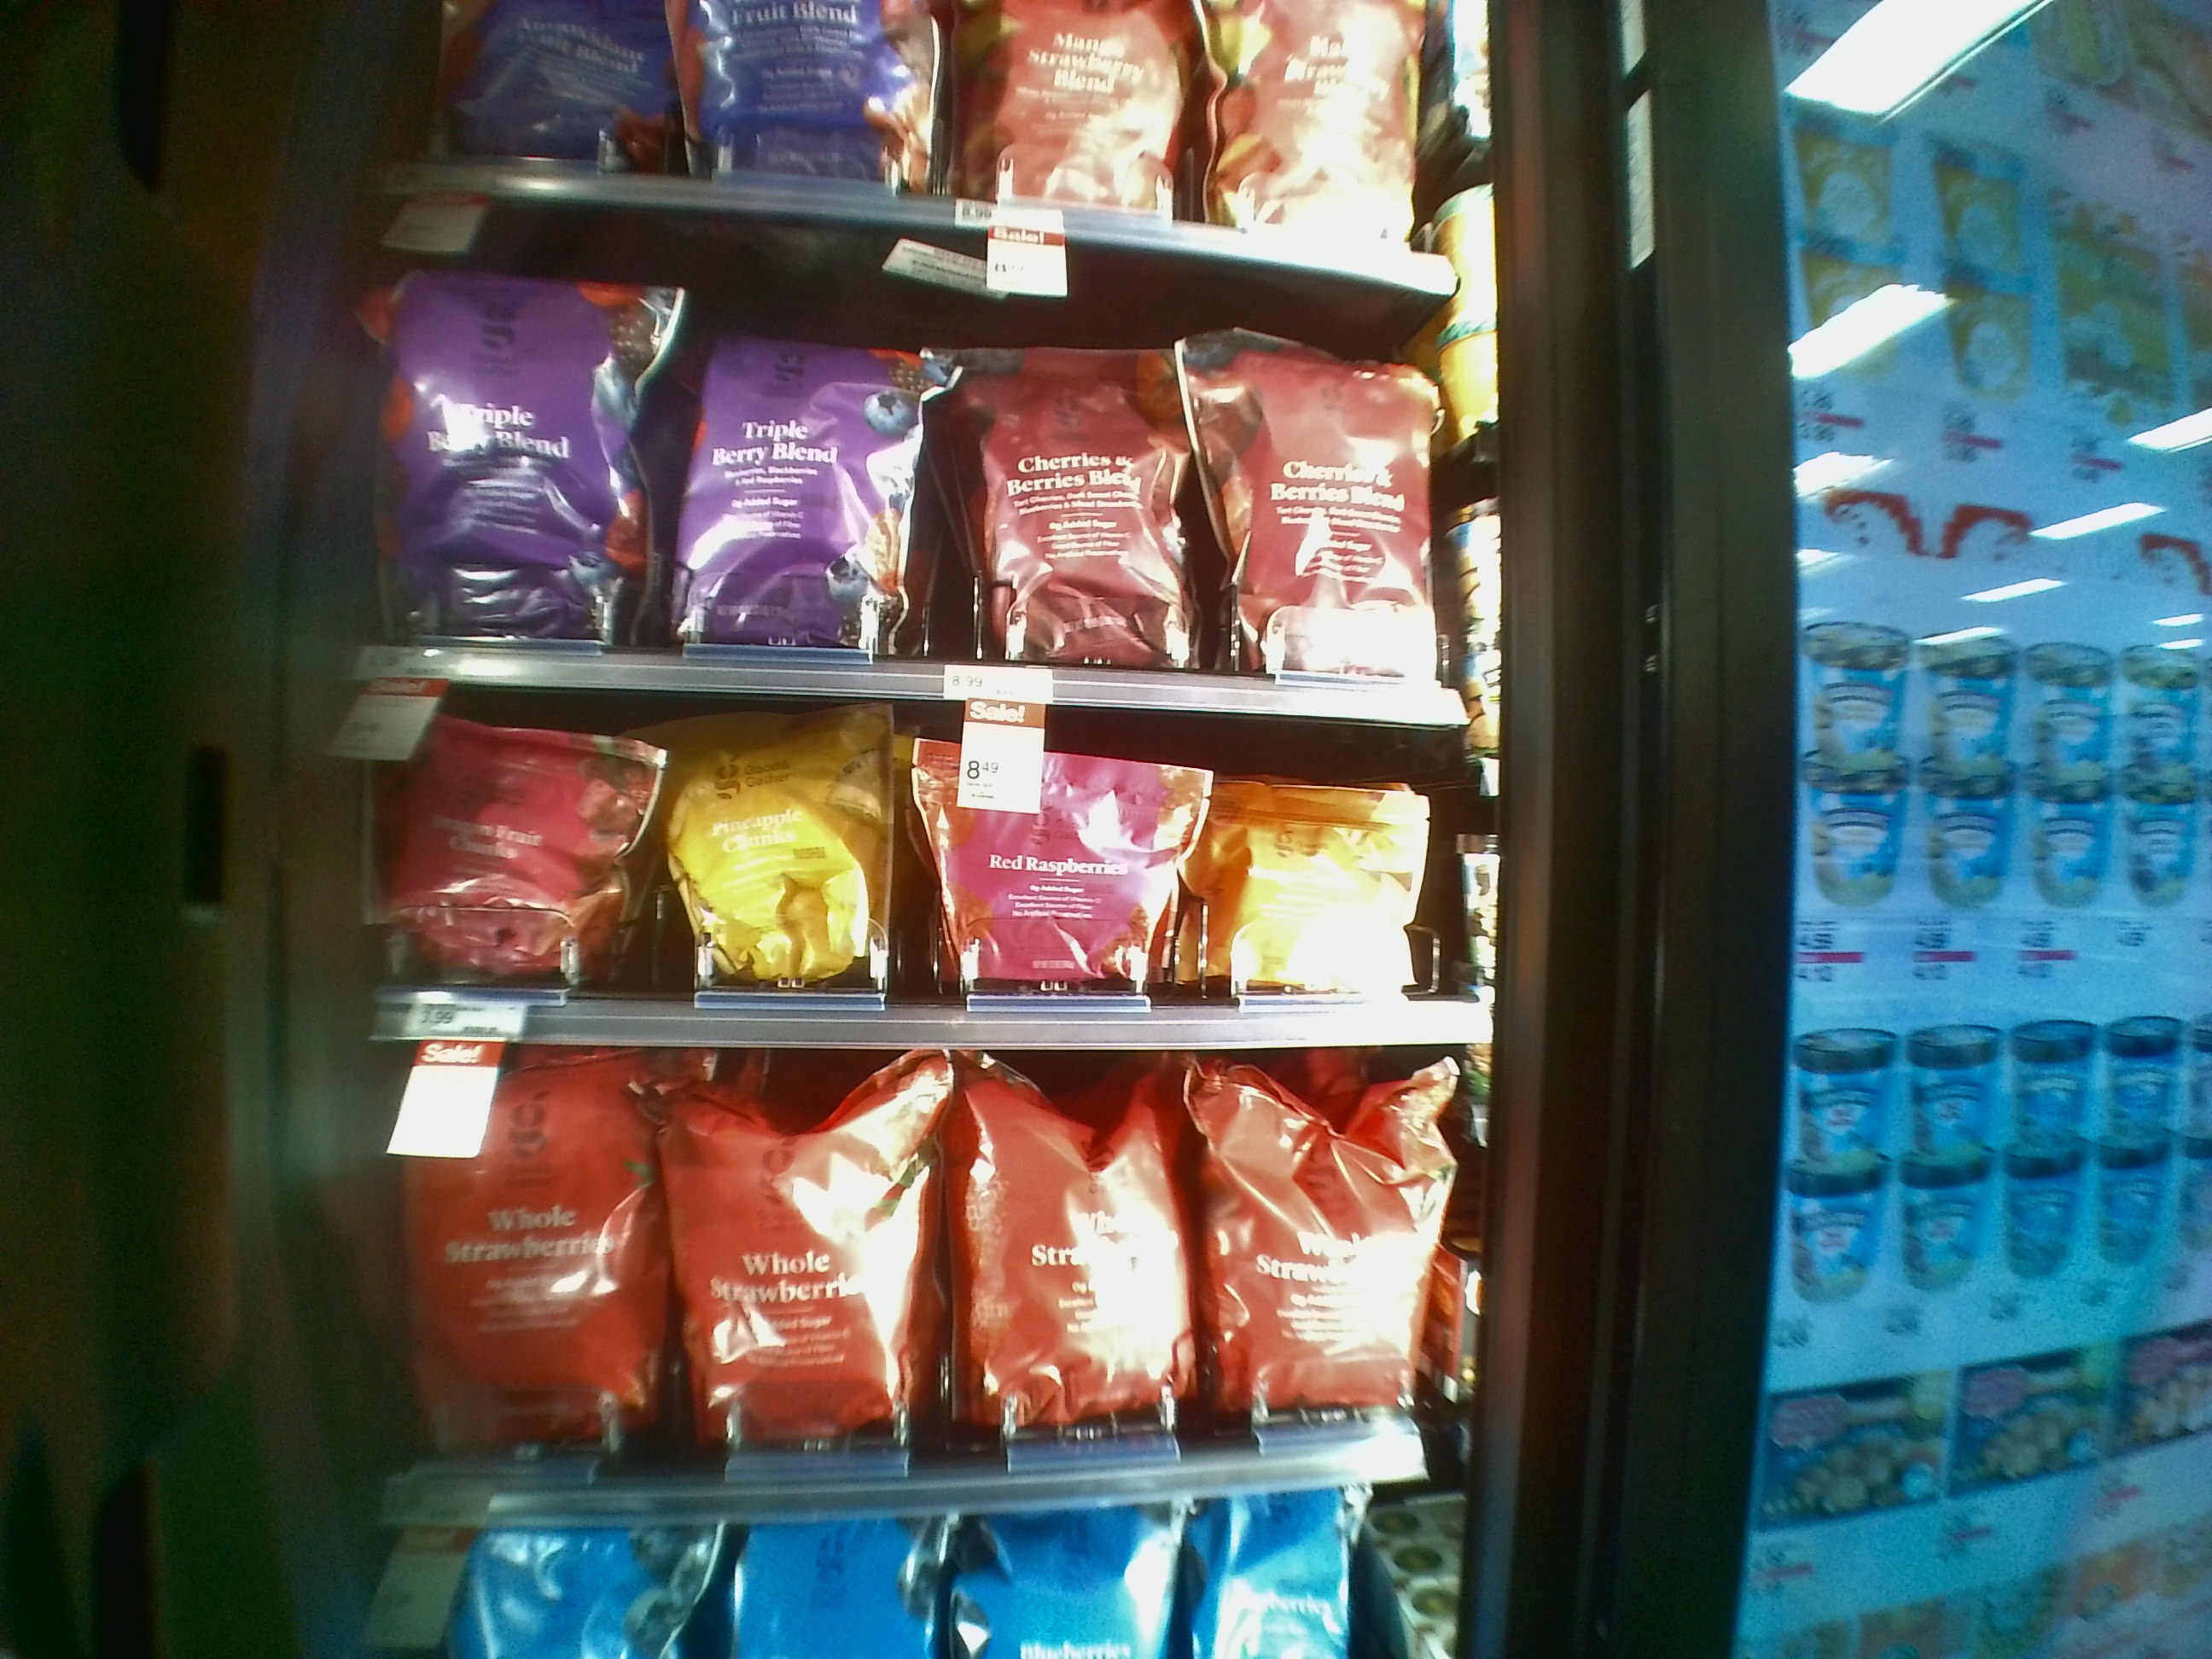shelf: (350, 232, 1458, 720), (368, 1042, 1470, 1525), (340, 718, 1507, 1058)
